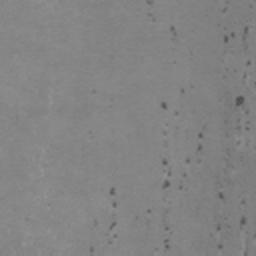Oxide scale of temperature system: (108, 180, 247, 252), (197, 25, 249, 168), (169, 25, 179, 43), (28, 108, 47, 117), (75, 104, 89, 116), (160, 101, 168, 111)
